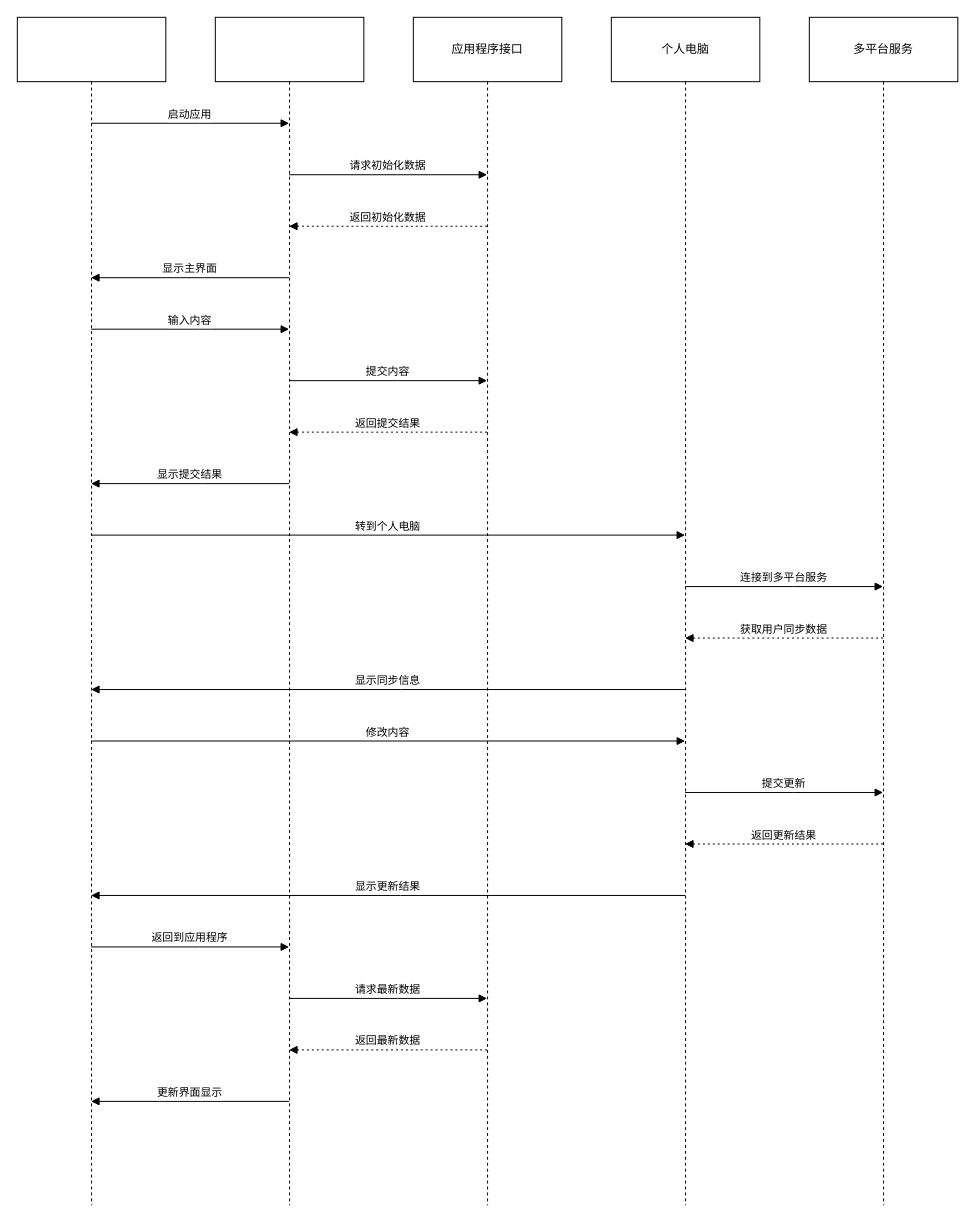
The diagram is 975 pixels wide and 1223 high, and some of its shapes have lost their labels. The shapes that lost their labels are listed below. From the top down, each one's box as (x1, y1, x2, y2) in pixels, then its label:
(16, 16, 166, 1205): 用户
(214, 16, 364, 1205): 应用程序
